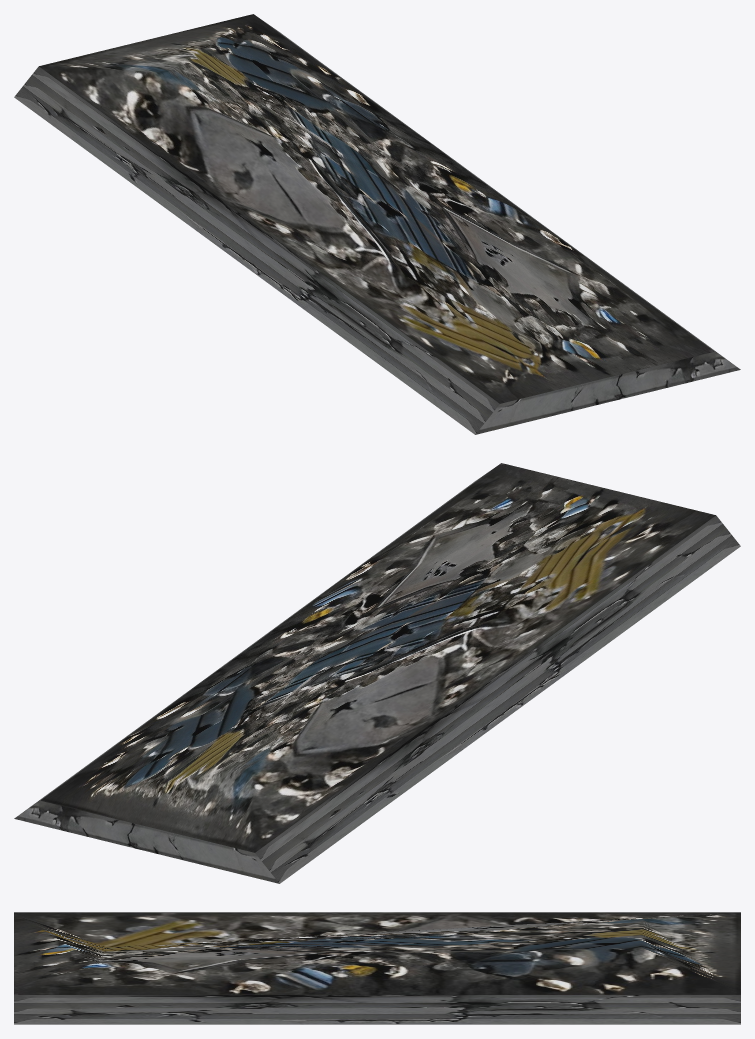
The model's file is s_promenade_dam_hdtex.glb.
3 renders of one model, top to bottom at view 1: azimuth 30°, elevation 25°; view 2: azimuth 150°, elevation 25°; view 3: azimuth 270°, elevation 25°, orthographic. The views are drawn at different scales.
Visible parts, largest first — view 1: S_Prommodule; view 2: S_Prommodule; view 3: S_Prommodule.
Part boxes in pixels (bbox=[...]): S_Prommodule: bbox=[14, 14, 740, 434]; S_Prommodule: bbox=[14, 463, 740, 883]; S_Prommodule: bbox=[14, 912, 740, 1024].
Size of the model in its own units: 8.5 by 1.68 by 25.55.
2 materials, 2 textured.
